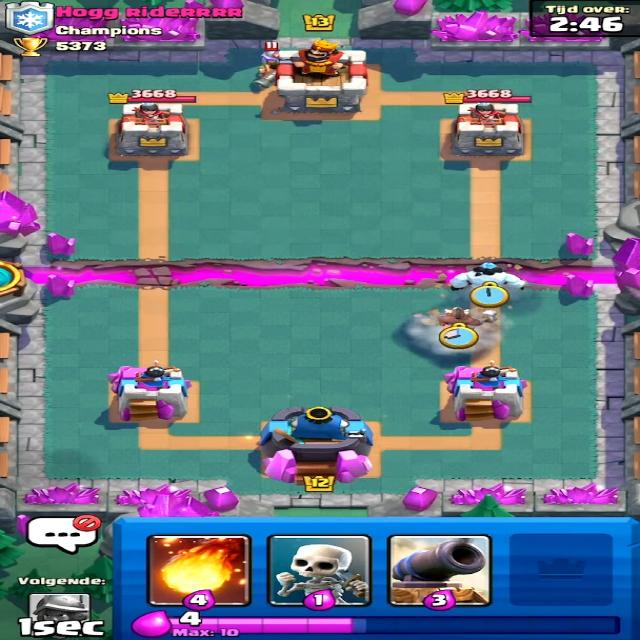Cannon_Card: (382, 536, 495, 605)
Fireball_Card: (149, 530, 234, 602)
Skeleton_Card: (271, 535, 378, 608)
